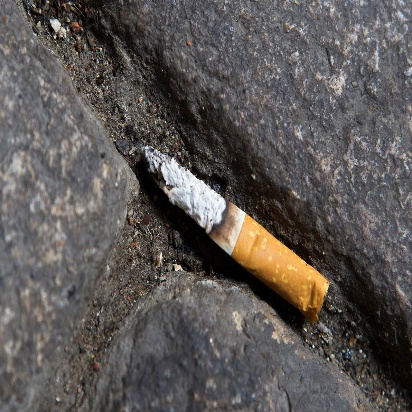cigarette: (122, 134, 347, 332)
